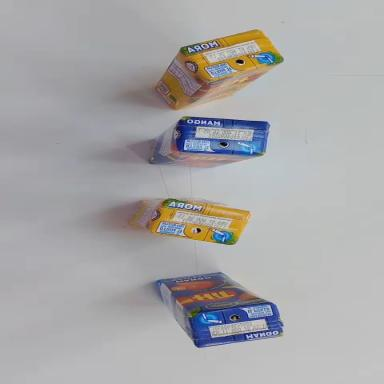HIT-MANGO: (157, 265, 284, 352), (150, 115, 268, 172)
HIT-MORA: (147, 19, 289, 116), (129, 188, 250, 252), (383, 197, 384, 245)
cara_F: (161, 265, 273, 319), (169, 60, 289, 110), (149, 149, 262, 171)
